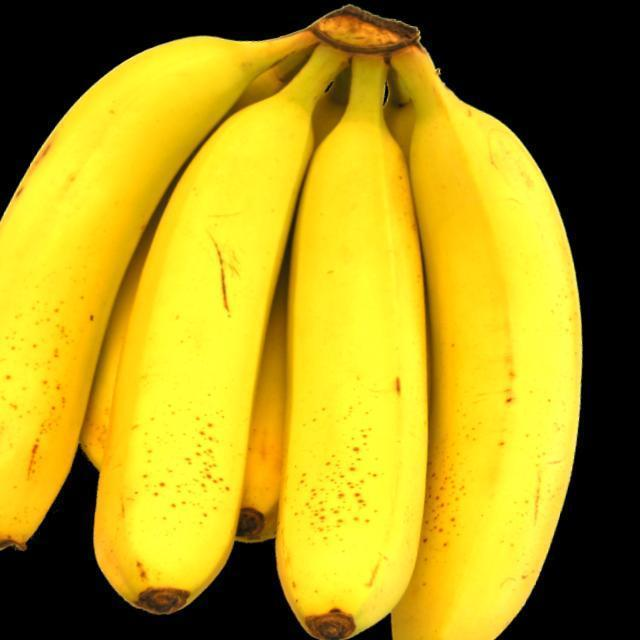Banana: (0, 3, 587, 640)
